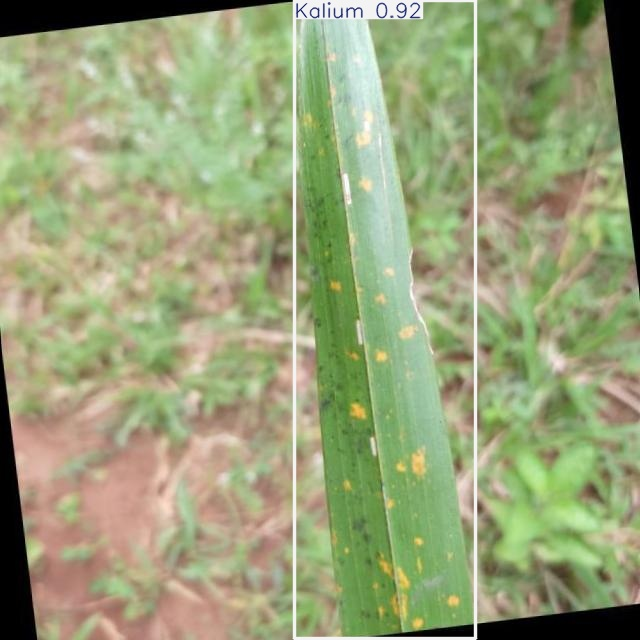Kalium: (295, 1, 476, 639)
